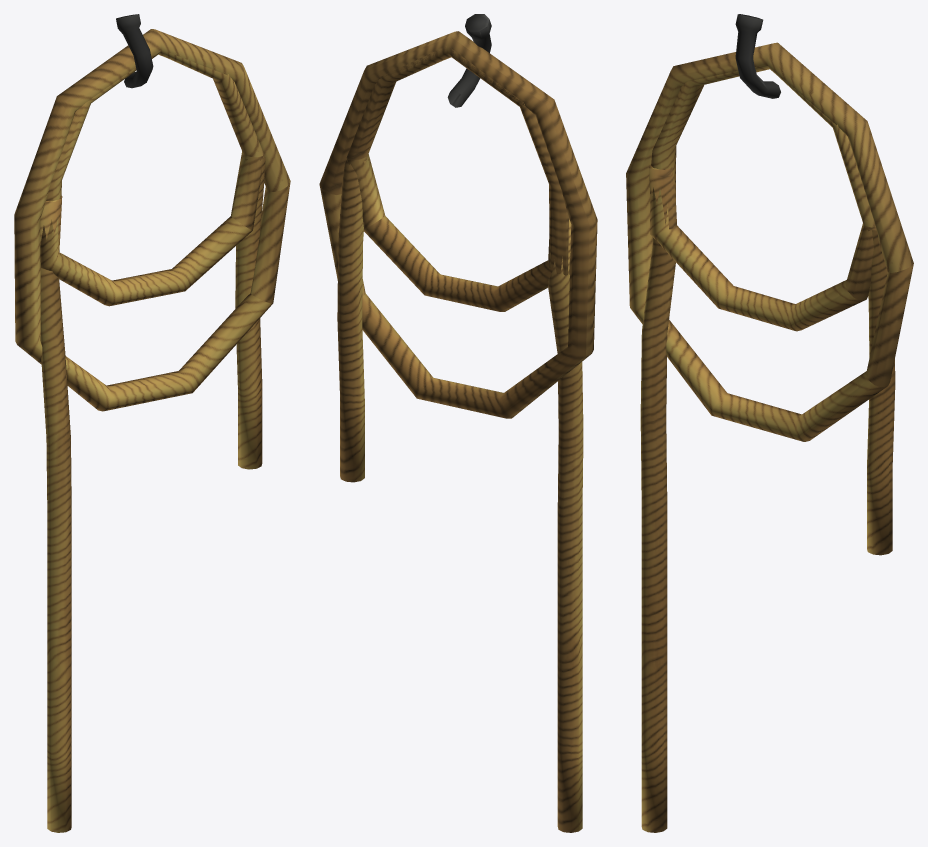
The model's file is rope.fbx.
3 renders of one model, left to right at view 1: azimuth 30°, elevation 25°; view 2: azimuth 150°, elevation 25°; view 3: azimuth 330°, elevation 25°, orthographic. The views are drawn at different scales.
Visible parts, largest first — view 1: rope; view 2: rope; view 3: rope.
Part boxes in pixels (x1,y1,x2,y2): rope: [14, 14, 290, 832]; rope: [319, 14, 597, 832]; rope: [626, 14, 913, 832].
Bounding box in the file's own units: 45.78 × 127 × 7.93.
